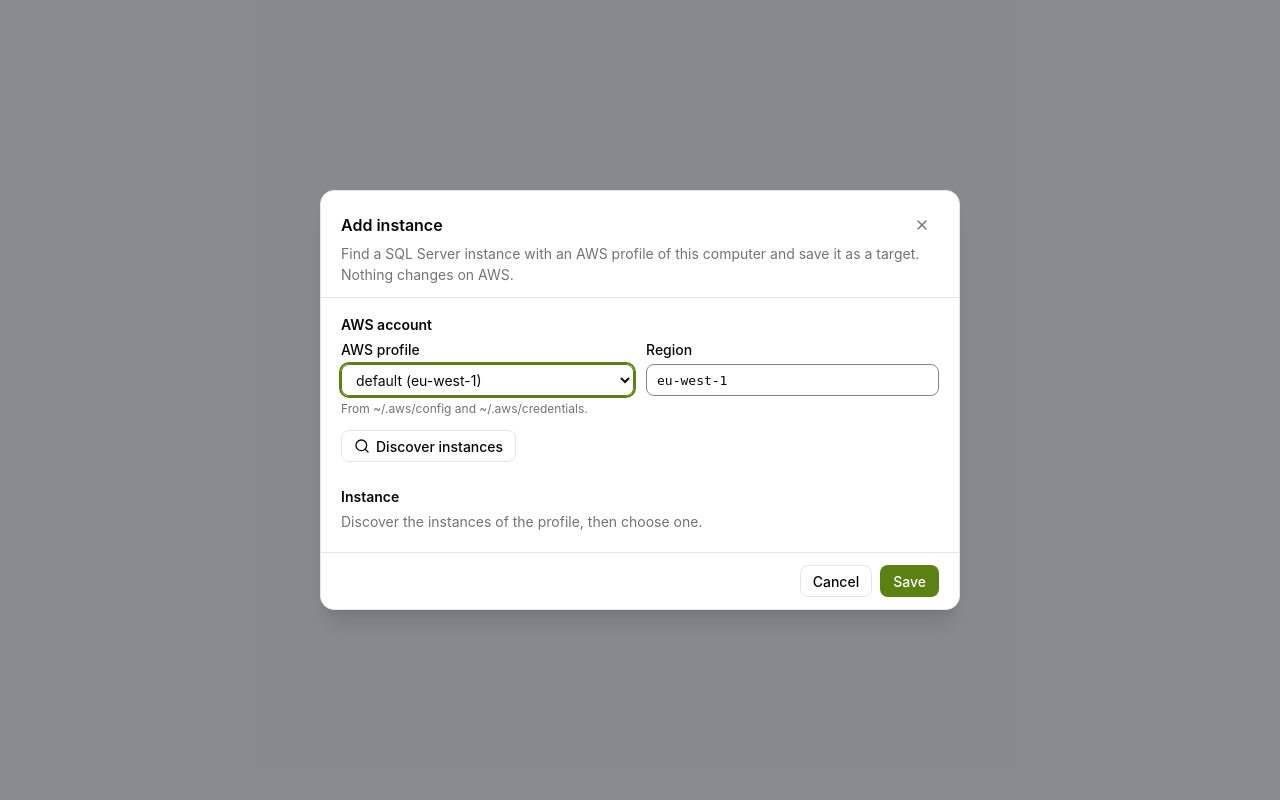
AddInstanceDialog › says when the profile sees no instance, or why discovery failed
Expected: the dropdown labelled "AWS profile" shows "default (eu-west-1)", [341,364,634,396]
Click the button "Discover instances" at (429, 446), box [341,430,516,462]
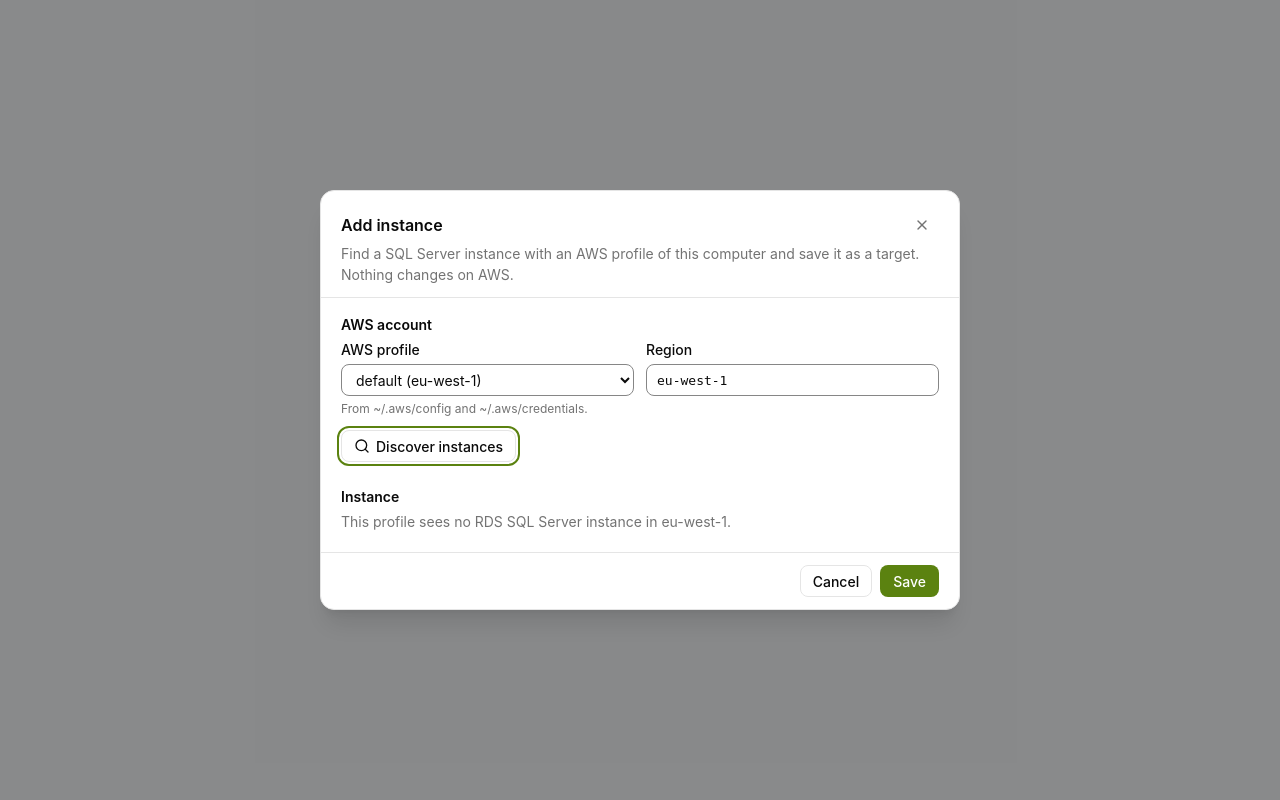
Result: the text "This profile sees no RDS SQL Server instance in eu-west-1." is shown at [341,513,731,530]
Click the button "Discover instances" at (429, 446), box [341,430,516,462]
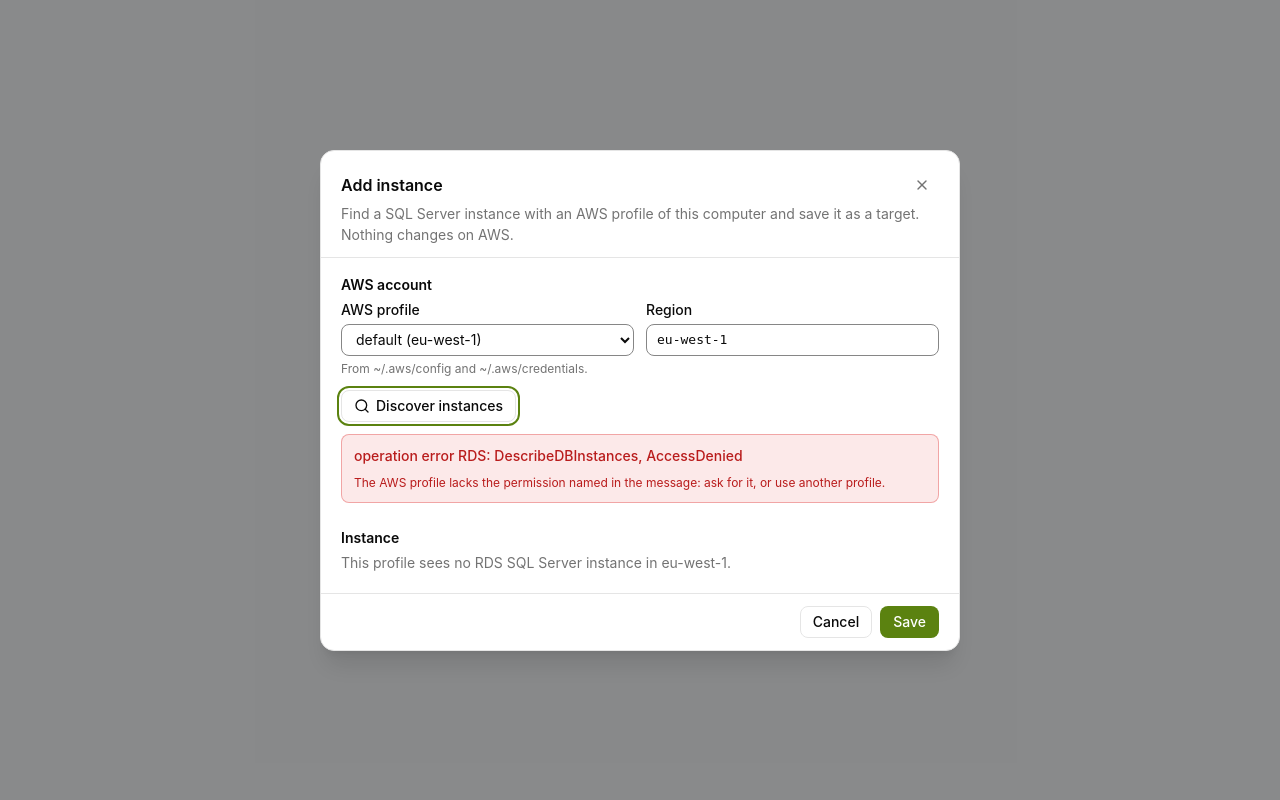
Result: the 1st message shows "operation error RDS: DescribeDBInstances, AccessDenied" at [354,446,743,464]
